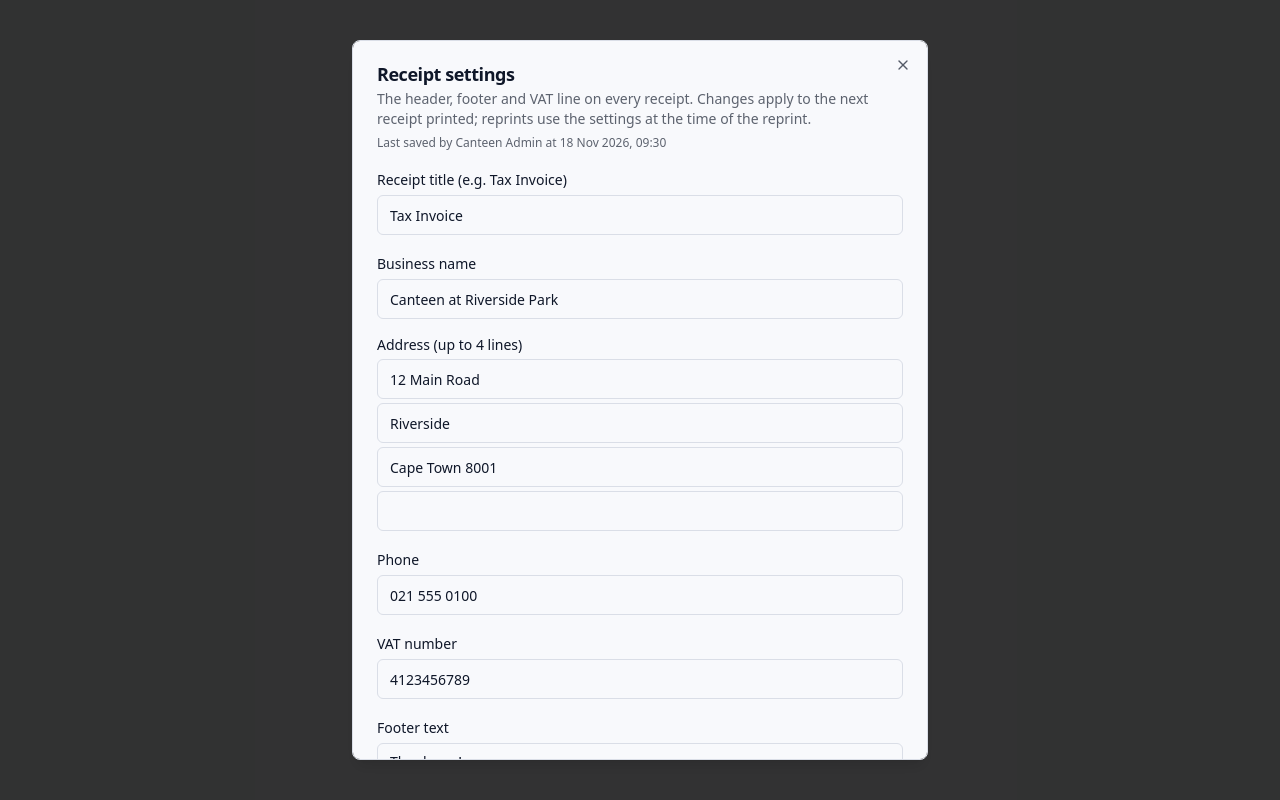
Receipt settings dialog › enables Save only when something changed; Cancel is always enabled
This screenshot has width=1280, height=800.
Check: the field showing "Canteen at Riverside Park" is shown, box [377,279,903,319]
Replace the text in the field labelled "Phone" with "021 555 0199" at coordinates (640, 595), box [377,575,903,615]
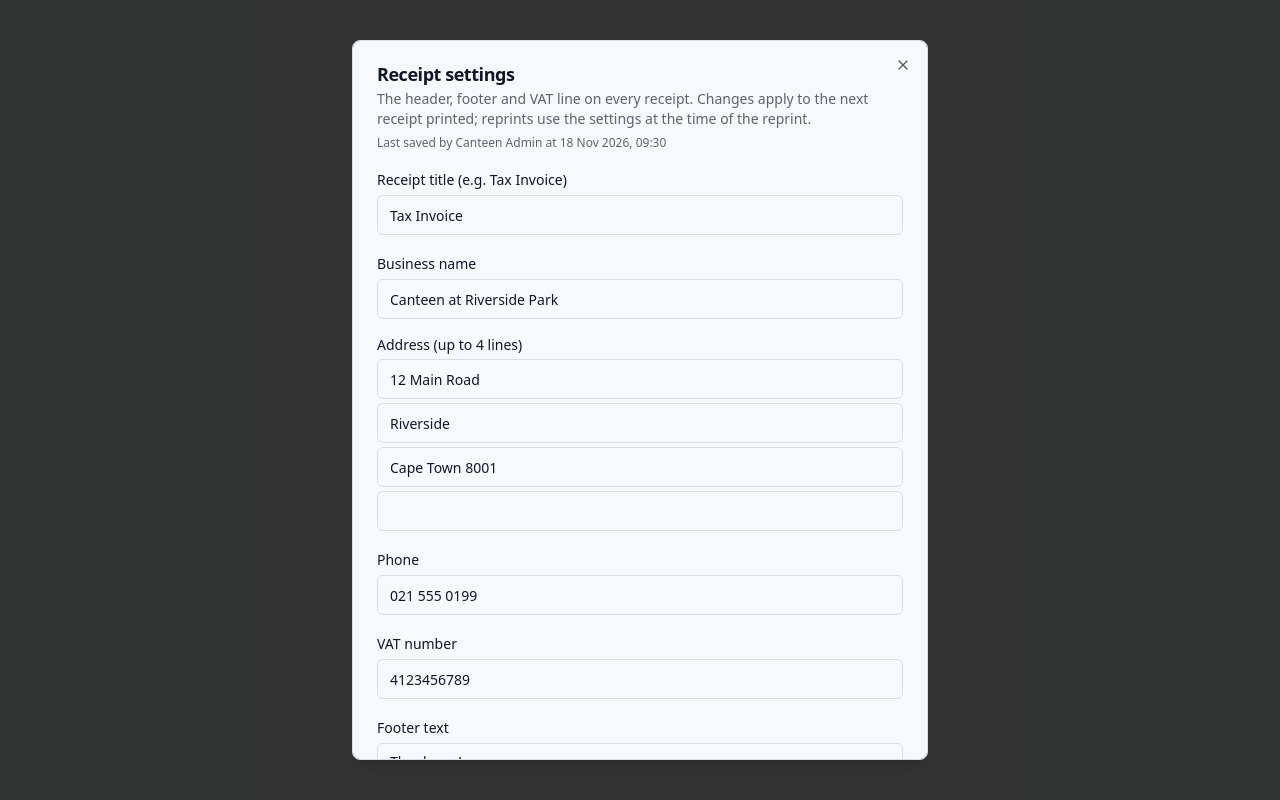
// Back to what was loaded, or only spaces added: nothing to save.
Replace the text in the field labelled "Phone" with "021 555 0100" at coordinates (640, 595), box [377,575,903,615]
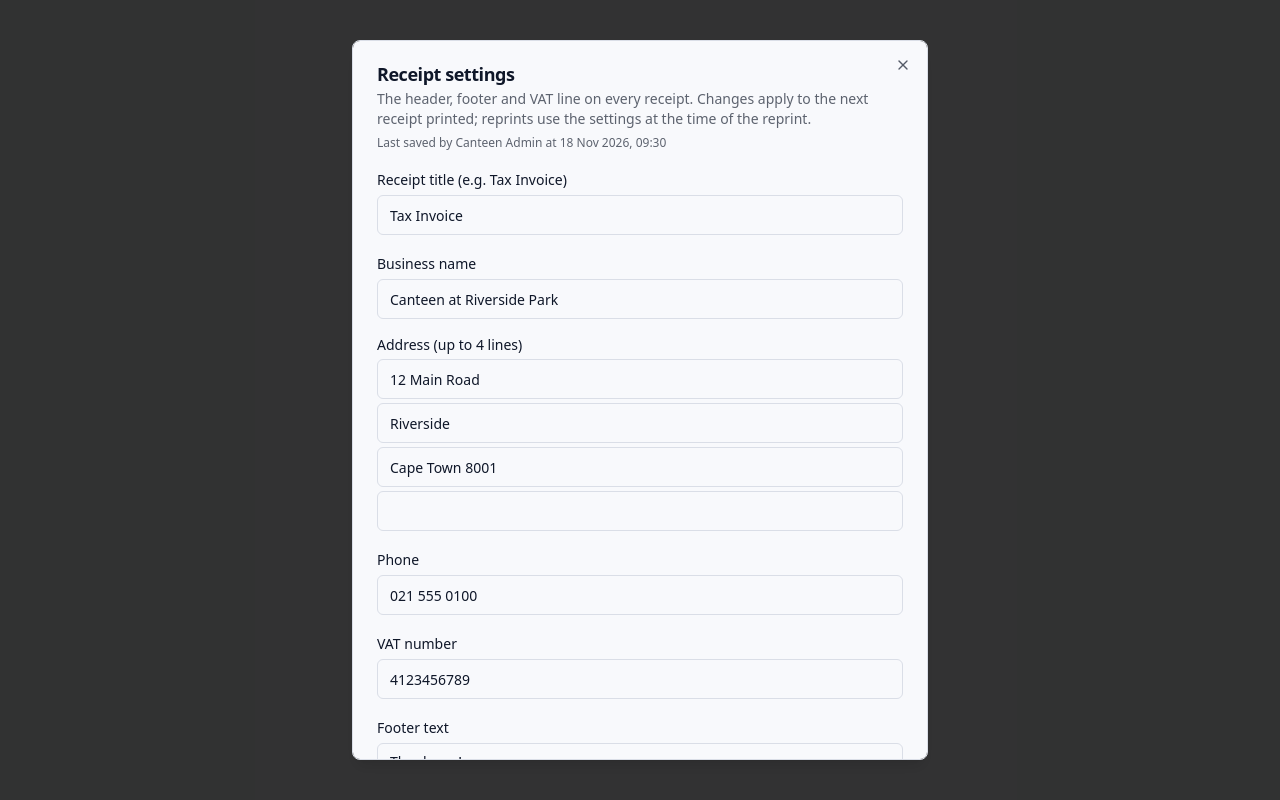
Replace the text in the field labelled "Phone" with "021 555 0100  " at coordinates (640, 595), box [377,575,903,615]
(page scrolled)
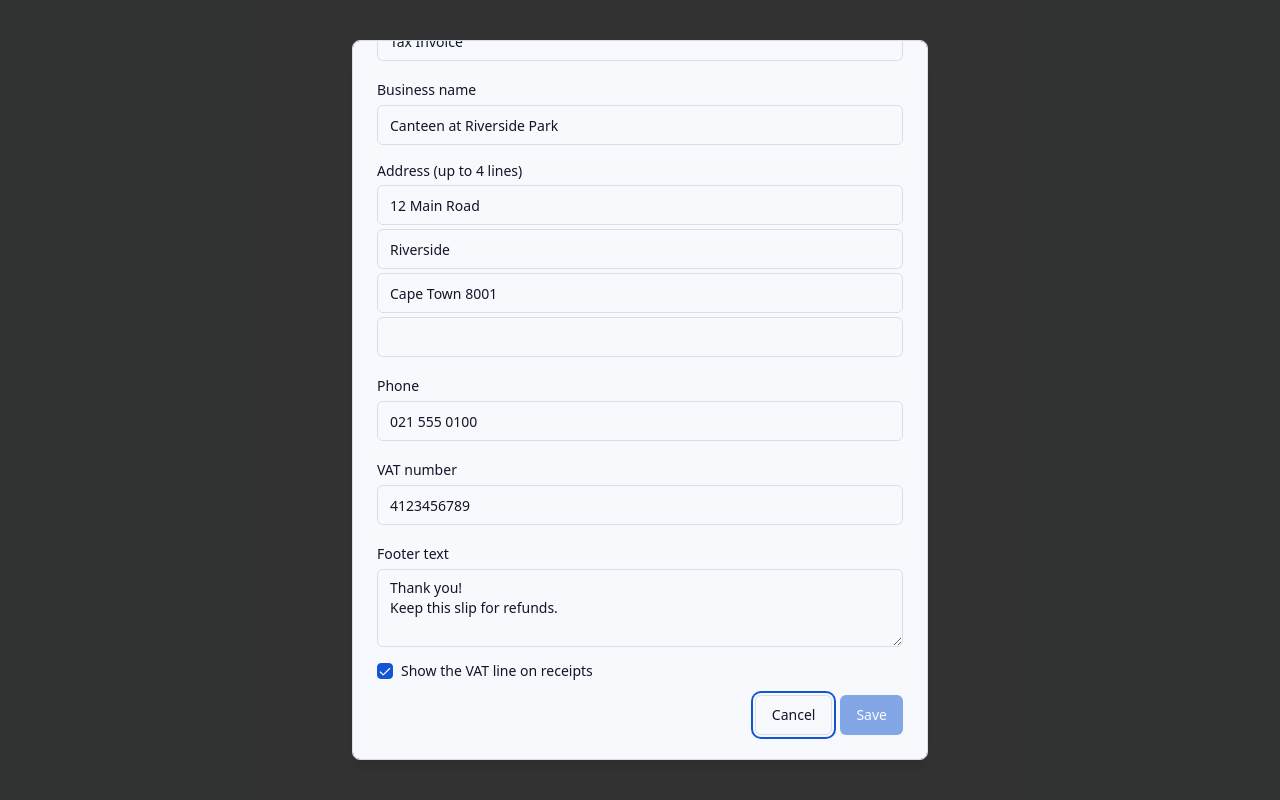
Check: the button "Save" is disabled, box [840,695,903,735]
Click the checkbox named "Show the VAT line on receipts" at coordinates (385, 671), box [377,663,393,679]
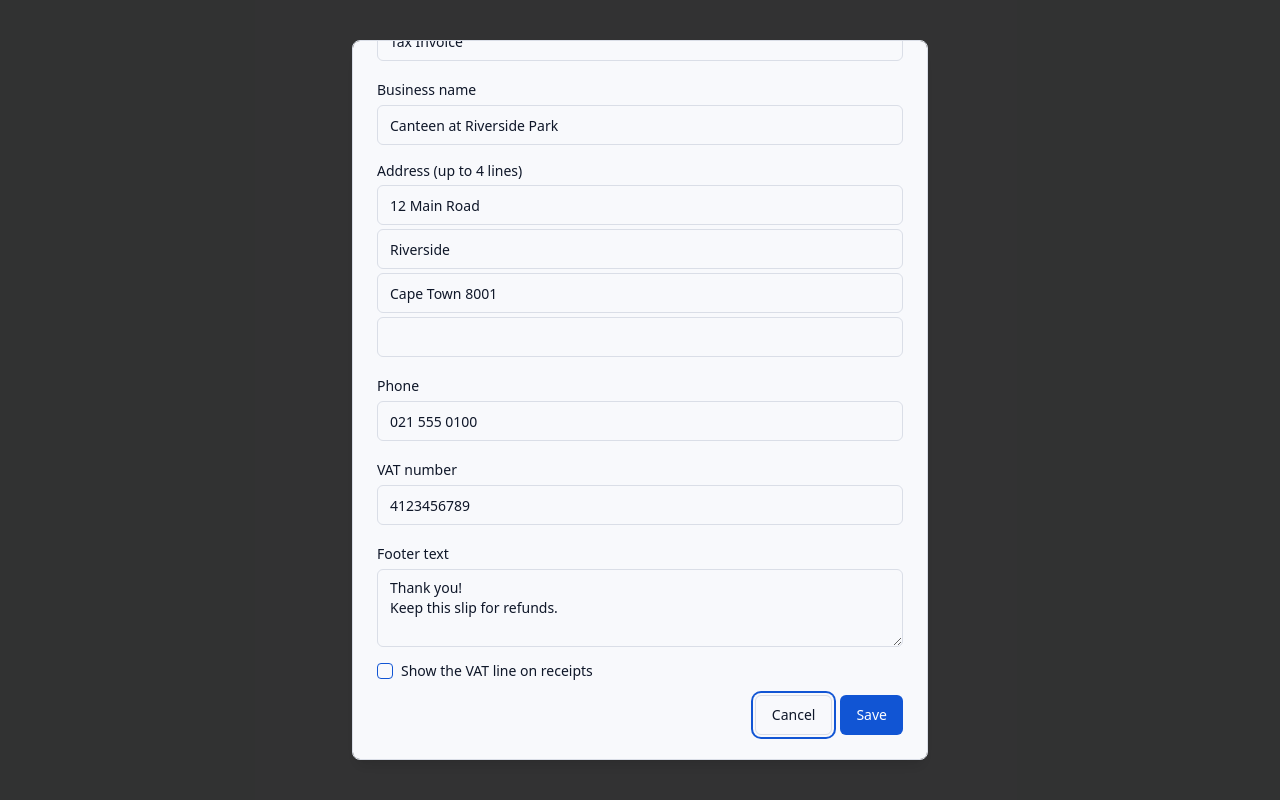
Check: the button "Save" is enabled, box [840,695,903,735]
Click the checkbox named "Show the VAT line on receipts" at coordinates (385, 671), box [377,663,393,679]
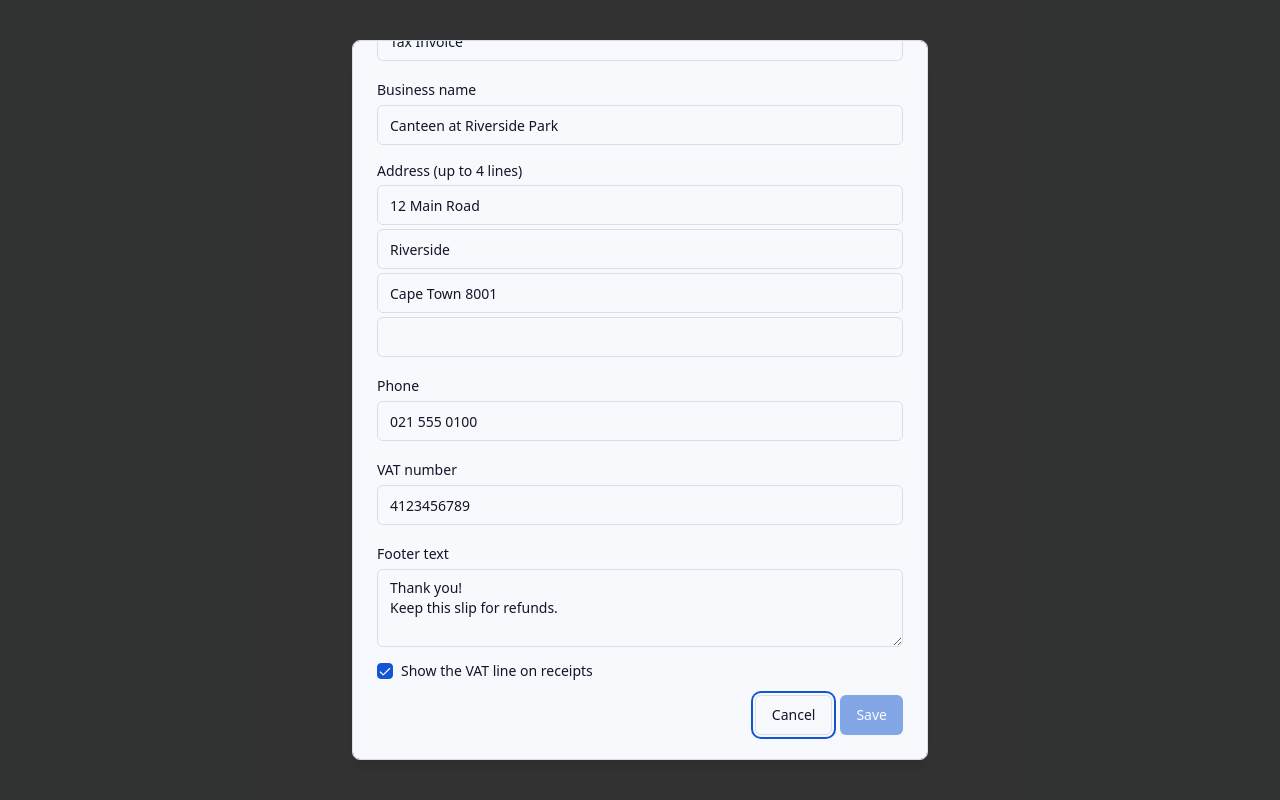
Check: the button "Save" is disabled, box [840,695,903,735]
